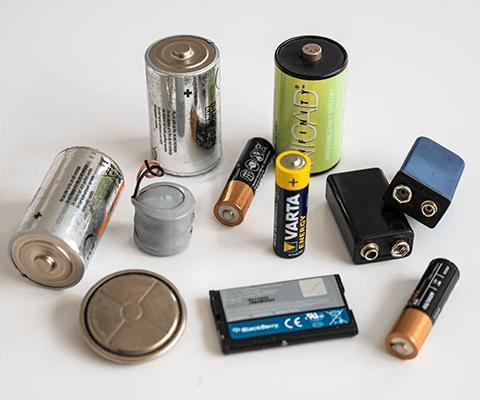AA: (383, 257, 464, 364), (212, 134, 277, 228), (270, 149, 313, 261)
COIN: (76, 266, 190, 368)
